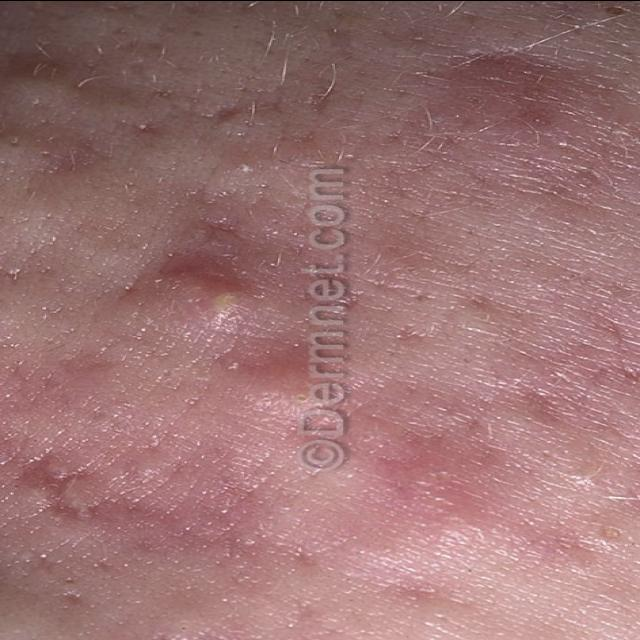Acne: (449, 50, 561, 142), (376, 437, 472, 521), (11, 450, 107, 523), (152, 254, 247, 292), (198, 280, 255, 330), (442, 298, 502, 339)
